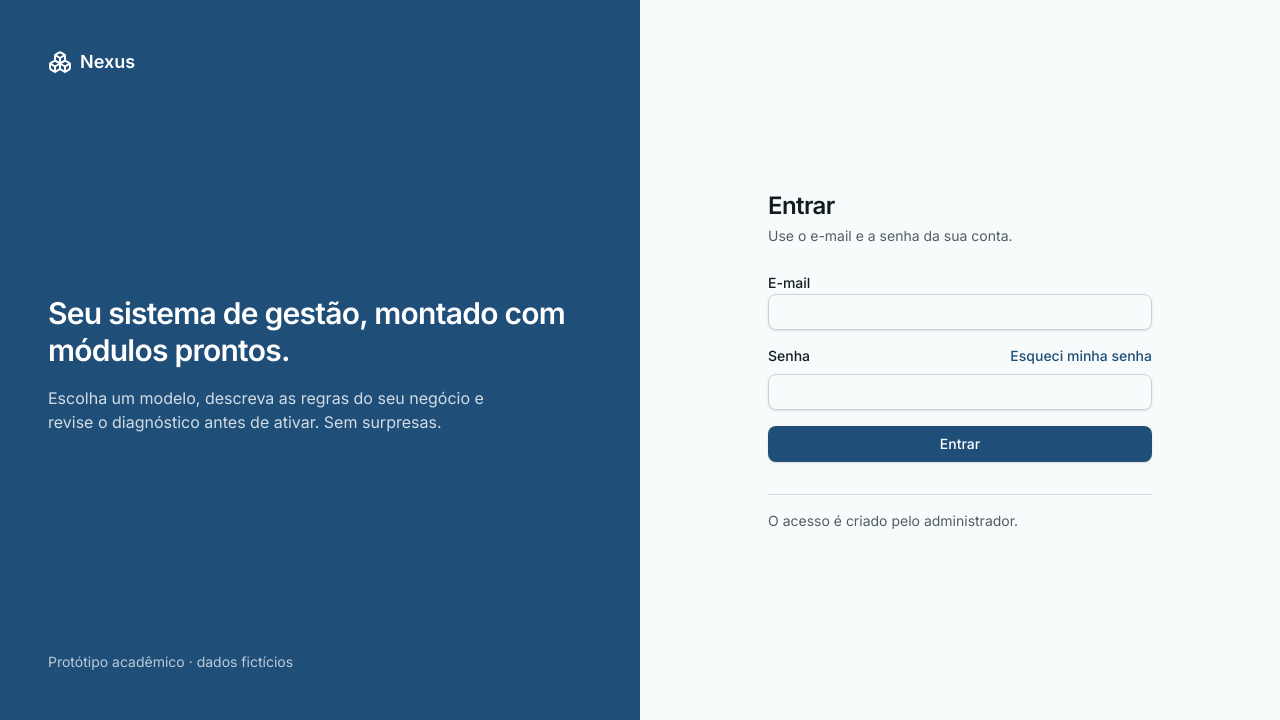
Test: Entrar › mostra a mensagem certa para servico_indisponivel
This screenshot has width=1280, height=720.
Type "pessoa@exemplo.com" into the field labelled "E-mail" at (960, 312), box x1=768 y1=294 x2=1152 y2=330
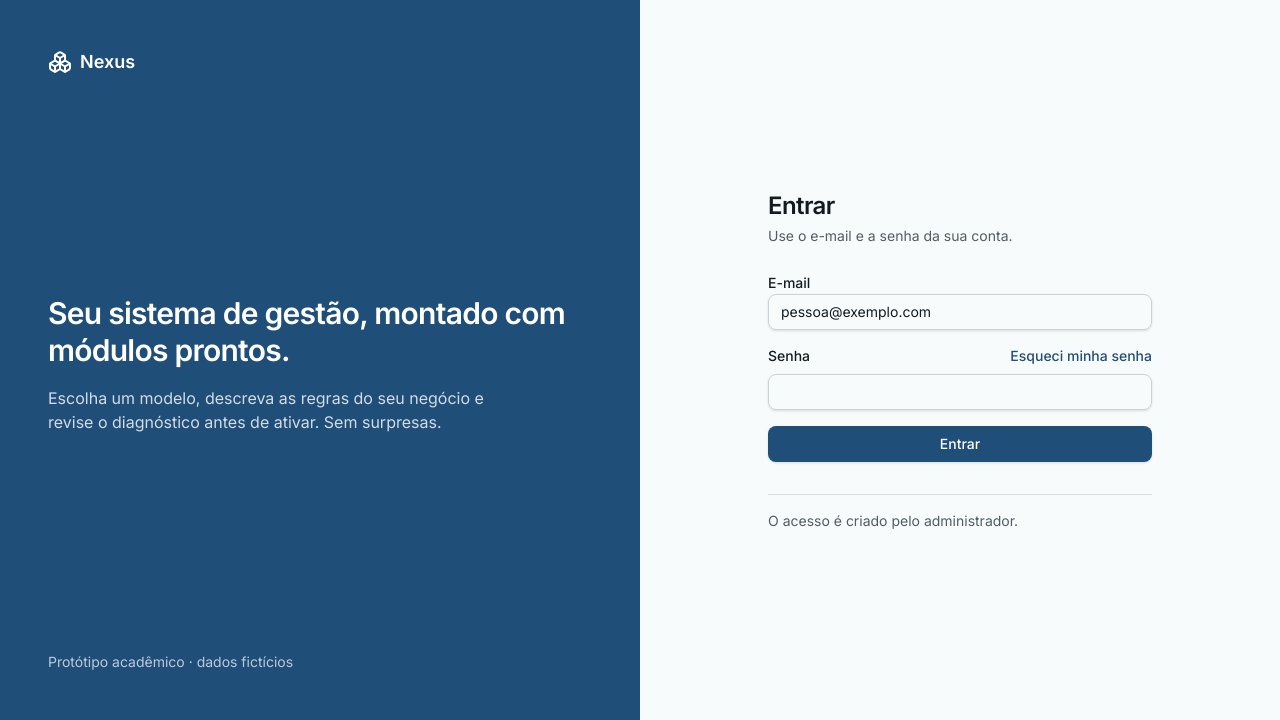
Type "senha-ficticia" into the password field labelled "Senha" at (960, 392), box x1=768 y1=374 x2=1152 y2=410
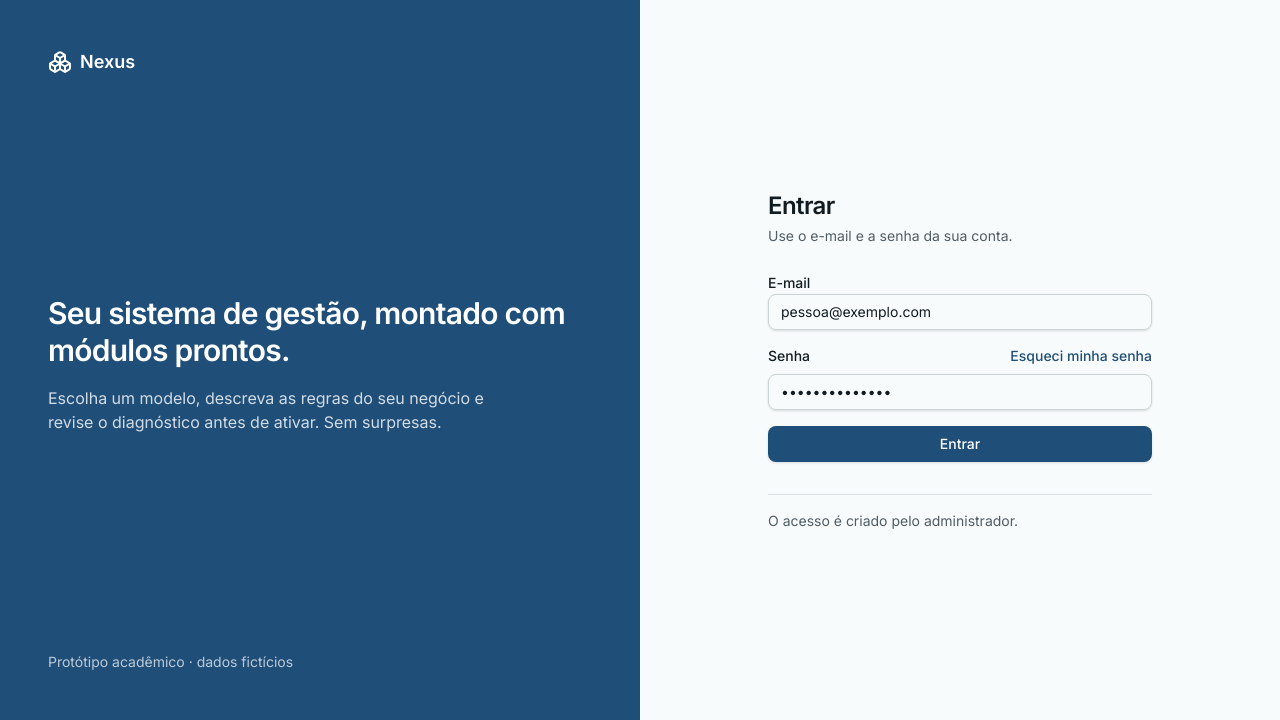
Click the button "Entrar" at (960, 444), box x1=768 y1=426 x2=1152 y2=462
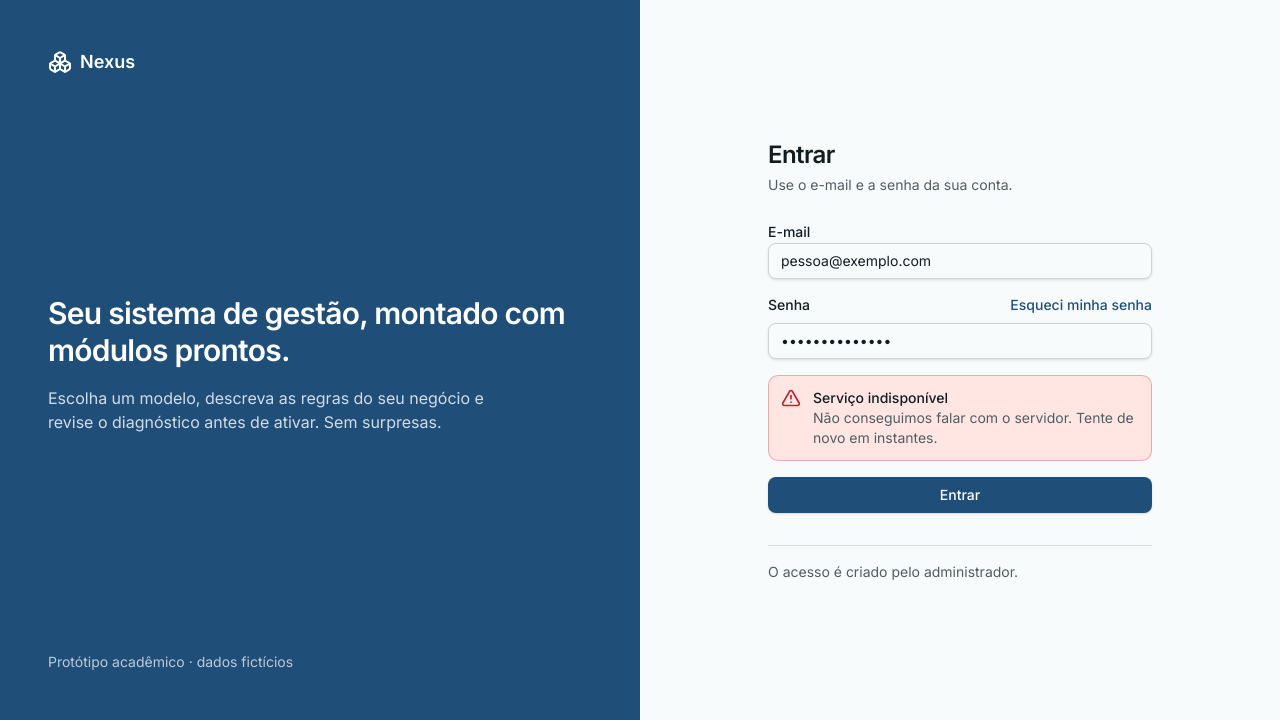
Check: the text "Serviço indisponível" is shown, box x1=813 y1=388 x2=948 y2=406
